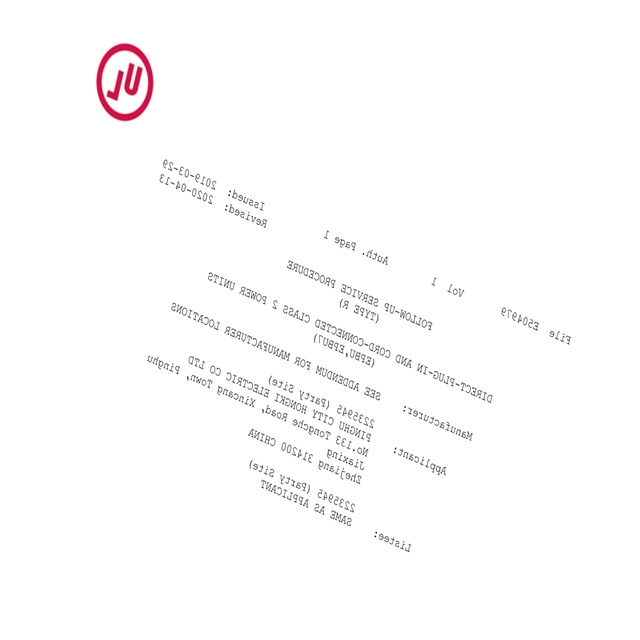ul: (98, 42, 155, 124)
